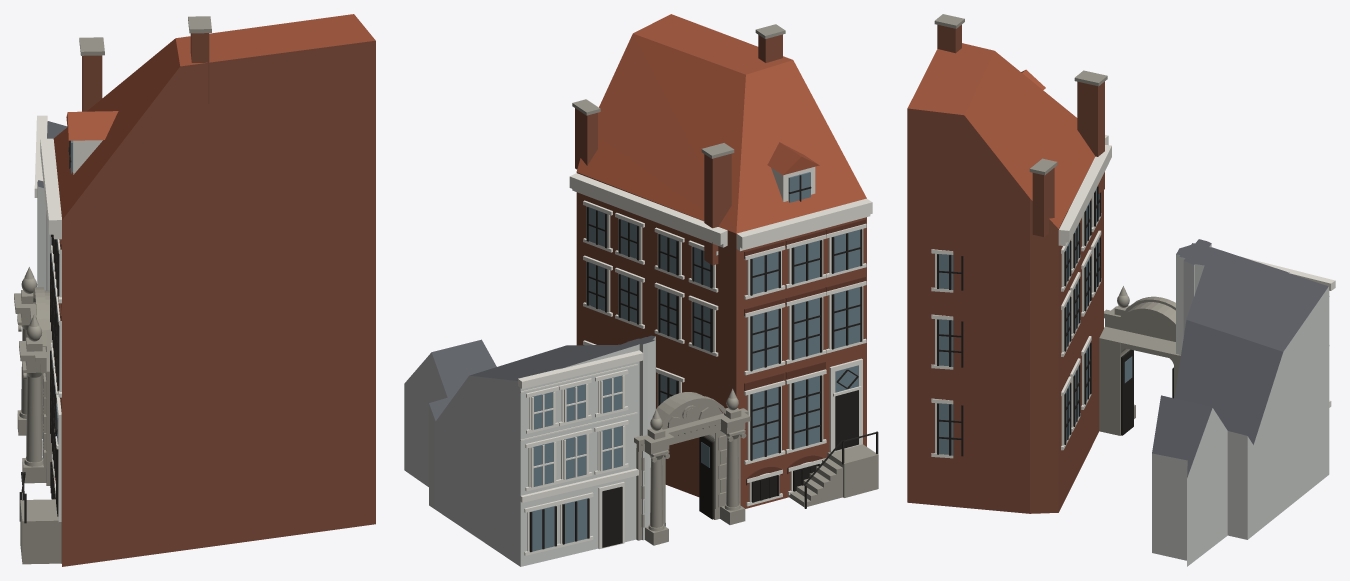
Rendered from oudemanhuispoort.glb.
3 views of the same model, side by side, from view 1: azimuth 30°, elevation 25°; view 2: azimuth 150°, elevation 25°; view 3: azimuth 270°, elevation 25° (orthographic). The views are drawn at different scales.
Visible parts, largest first — view 1: oudemanhuispoort; view 2: oudemanhuispoort; view 3: oudemanhuispoort.
Part boxes in pixels (box(x1,y1,x2,y2)): oudemanhuispoort: box(14, 14, 375, 566); oudemanhuispoort: box(404, 14, 878, 566); oudemanhuispoort: box(907, 14, 1335, 566).
Bounding box in the file's own units: 17.1 × 18.19 × 16.63.
